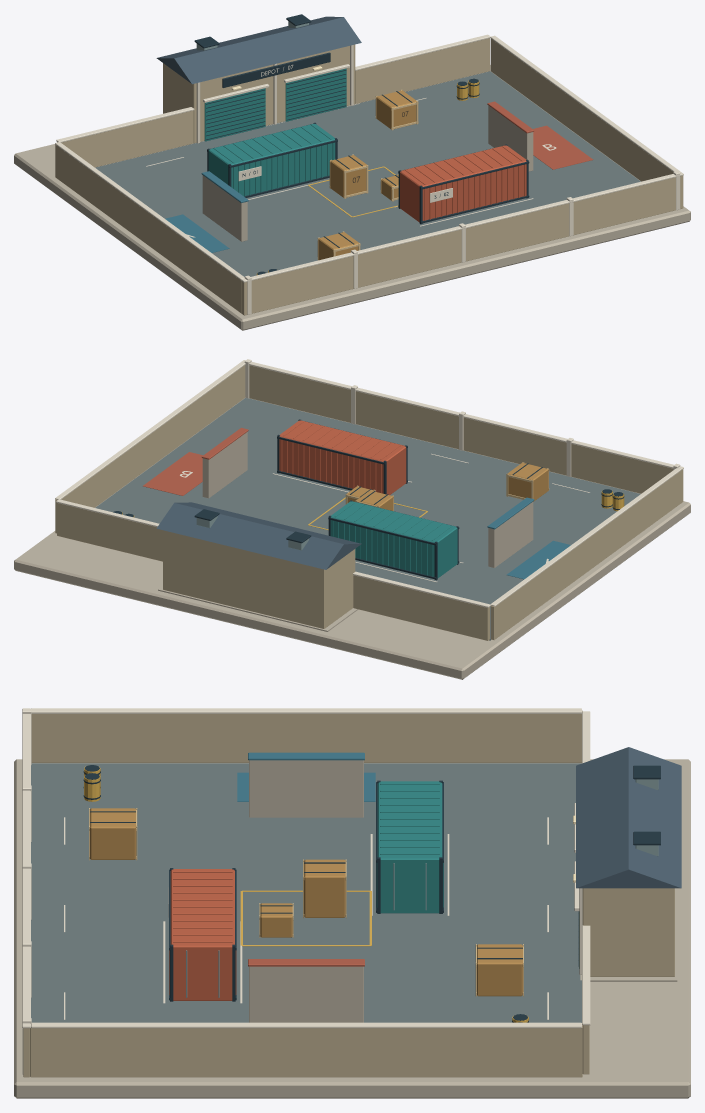
The model's file is yard_07.glb.
3 renders of one model, top to bottom at view 1: azimuth 30°, elevation 25°; view 2: azimuth 150°, elevation 25°; view 3: azimuth 270°, elevation 25°, orthographic. The views are drawn at different scales.
Parts seen in each view (by area): view 1: Playable_Ground, Boundary_S, Foundation, Boundary_W, Warehouse_GableRoof, Container_South_Body, Boundary_E, Container_North_Body, Boundary_NE, Warehouse, Boundary_NW, Warehouse_ClosedDoor.001 (+14 smaller); view 2: Playable_Ground, Foundation, Boundary_S, Warehouse, Boundary_W, Container_South_Body, Warehouse_GableRoof, Boundary_E, Container_North_Body, Boundary_NW, Boundary_NE, Boundary_S_Cap (+9 smaller); view 3: Playable_Ground, Foundation, Boundary_E, Boundary_W, Warehouse_GableRoof, Container_South_Body, Warehouse, Container_North_Body, Spawn_A_Screen, Spawn_B_Screen, Boundary_E_Cap, Boundary_W_Cap (+10 smaller).
Part boxes in pixels (x1,y1,x2,y2): Playable_Ground: [95, 71, 640, 276]; Boundary_S: [242, 175, 683, 315]; Foundation: [14, 65, 690, 330]; Boundary_W: [55, 145, 241, 313]; Warehouse_GableRoof: [156, 16, 361, 84]; Container_South_Body: [400, 145, 526, 222]; Boundary_E: [490, 39, 673, 181]; Container_North_Body: [208, 123, 335, 196]; Boundary_NE: [355, 38, 489, 103]; Warehouse: [163, 44, 355, 143]; Boundary_NW: [61, 110, 193, 167]; Warehouse_ClosedDoor.001: [285, 68, 346, 121]; Playable_Ground: [95, 398, 640, 640]; Foundation: [14, 398, 690, 679]; Boundary_S: [249, 365, 683, 503]; Warehouse: [163, 530, 355, 628]; Boundary_W: [490, 471, 680, 639]; Container_South_Body: [279, 420, 406, 495]; Warehouse_GableRoof: [156, 502, 361, 569]; Boundary_E: [55, 365, 245, 533]; Container_North_Body: [330, 501, 457, 578]; Boundary_NW: [353, 575, 489, 640]; Boundary_NE: [57, 503, 162, 561]; Boundary_S_Cap: [241, 360, 683, 470]; Playable_Ground: [31, 763, 581, 1022]; Foundation: [14, 759, 690, 1098]; Boundary_E: [30, 1025, 582, 1077]; Boundary_W: [31, 710, 582, 762]; Warehouse_GableRoof: [576, 747, 681, 888]; Container_South_Body: [170, 869, 234, 1000]; Warehouse: [582, 888, 674, 976]; Container_North_Body: [377, 781, 442, 913]; Spawn_A_Screen: [249, 760, 363, 817]; Spawn_B_Screen: [249, 966, 363, 1022]; Boundary_E_Cap: [31, 1022, 581, 1028]; Boundary_W_Cap: [31, 708, 581, 713].
Bounding box in the file's own units: 33.4 × 6.37 × 29.4.
